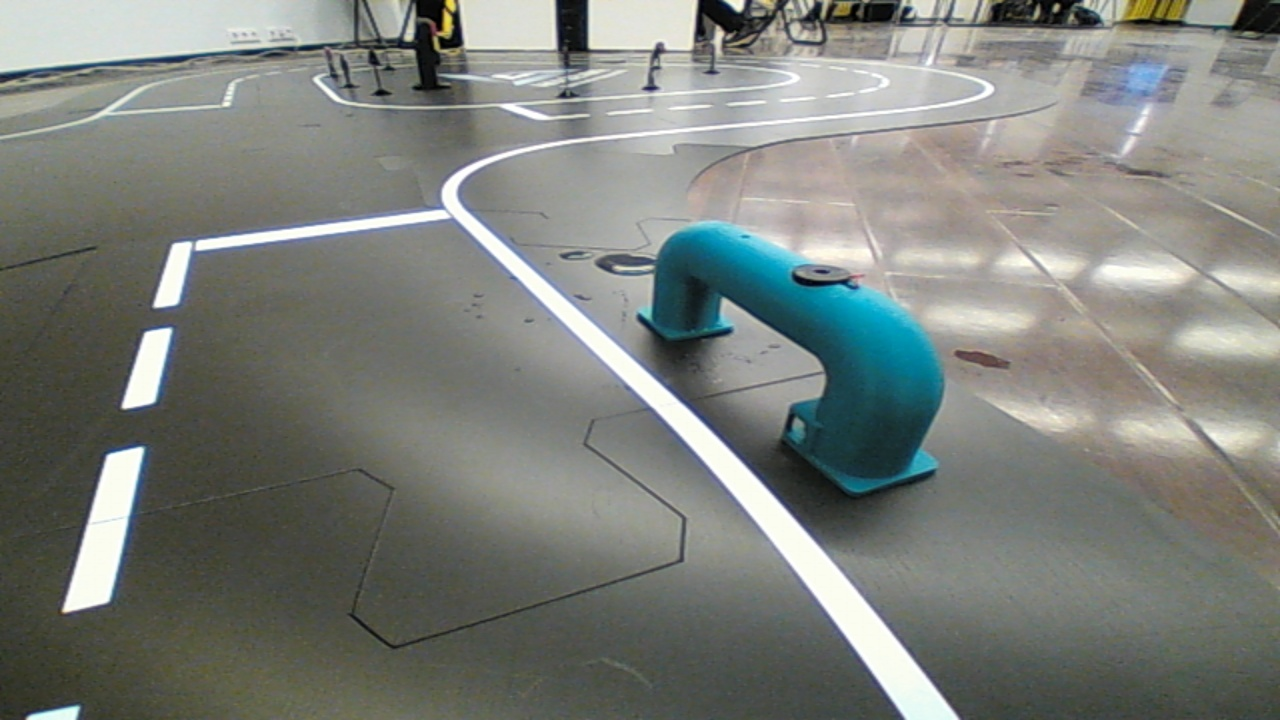Pedestrian crossing: (627, 181, 970, 509)
